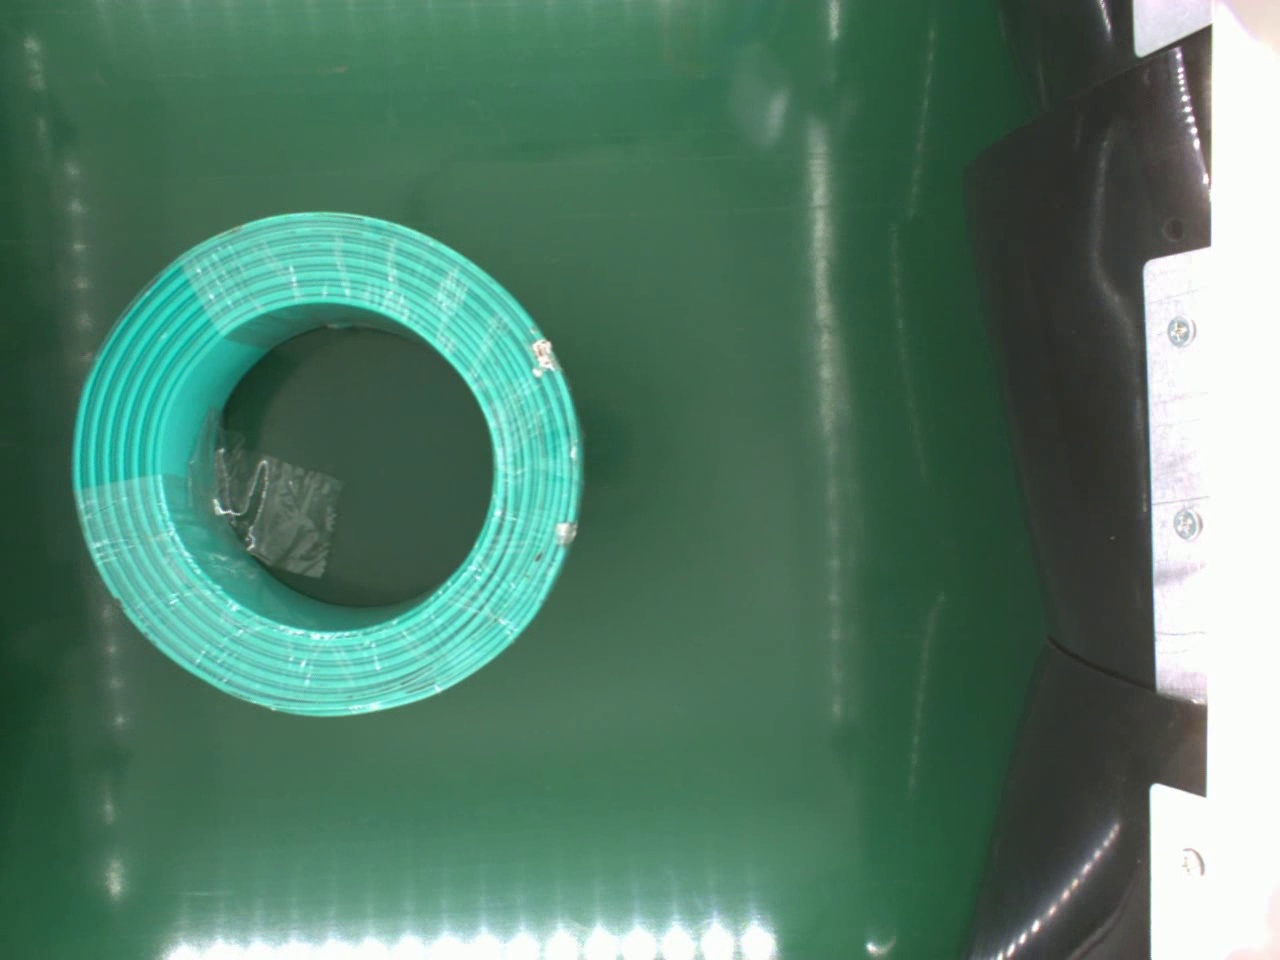green: (70, 206, 591, 719)
